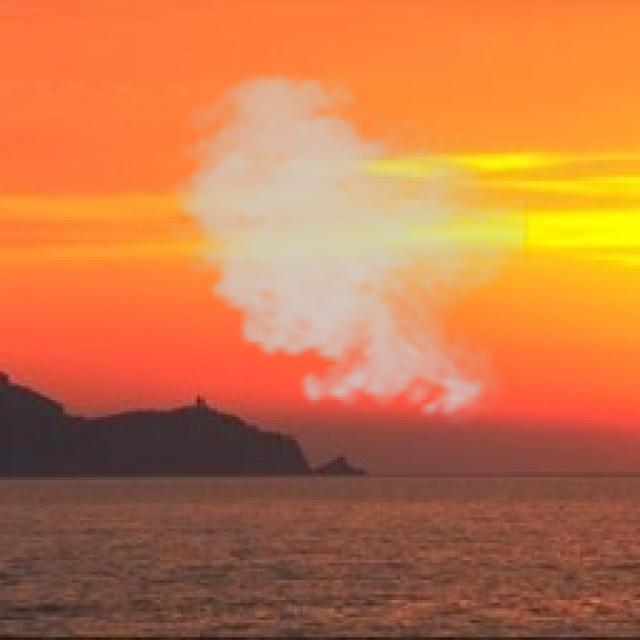Smoke: (160, 66, 529, 428)
